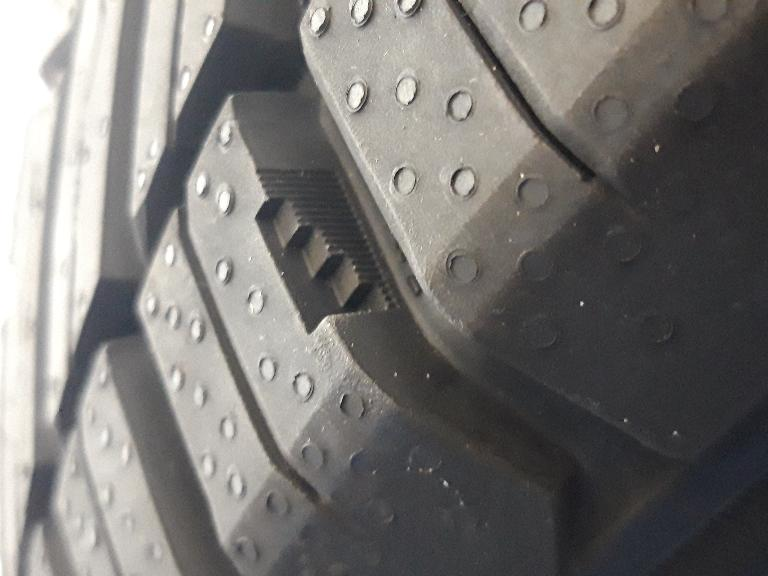temoin:100: (250, 167, 403, 340)
